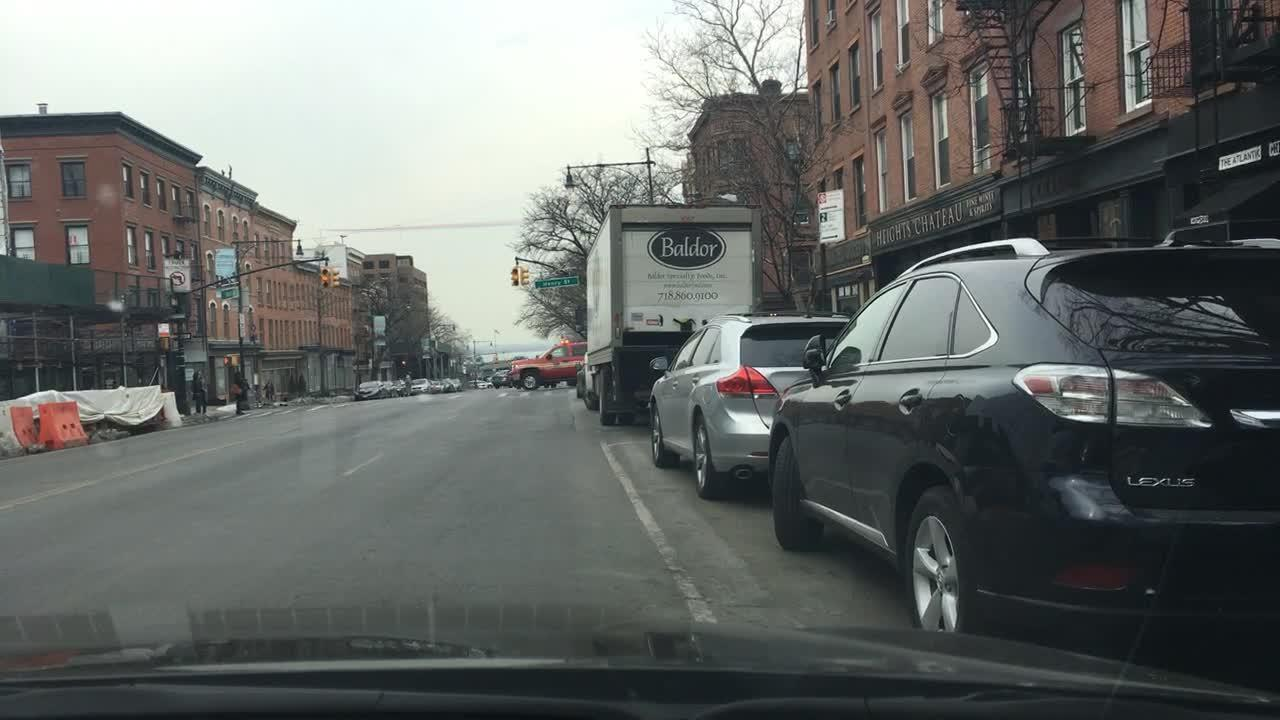lexus: (1121, 468, 1201, 497)
